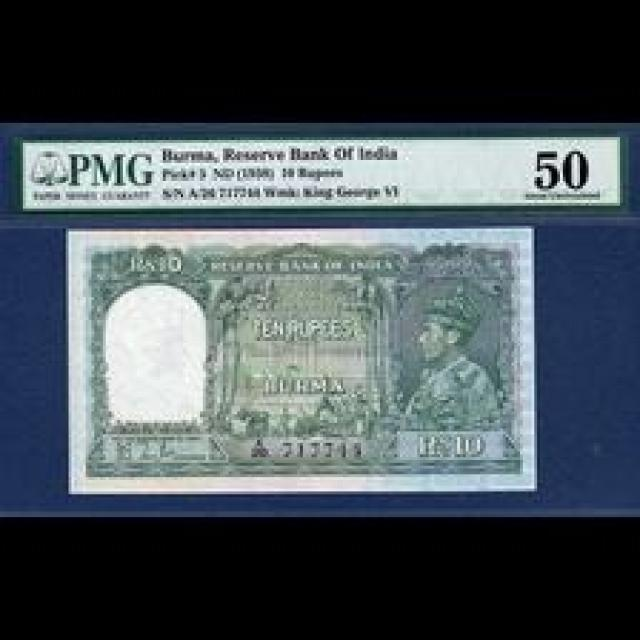banknote: (65, 230, 537, 493)
